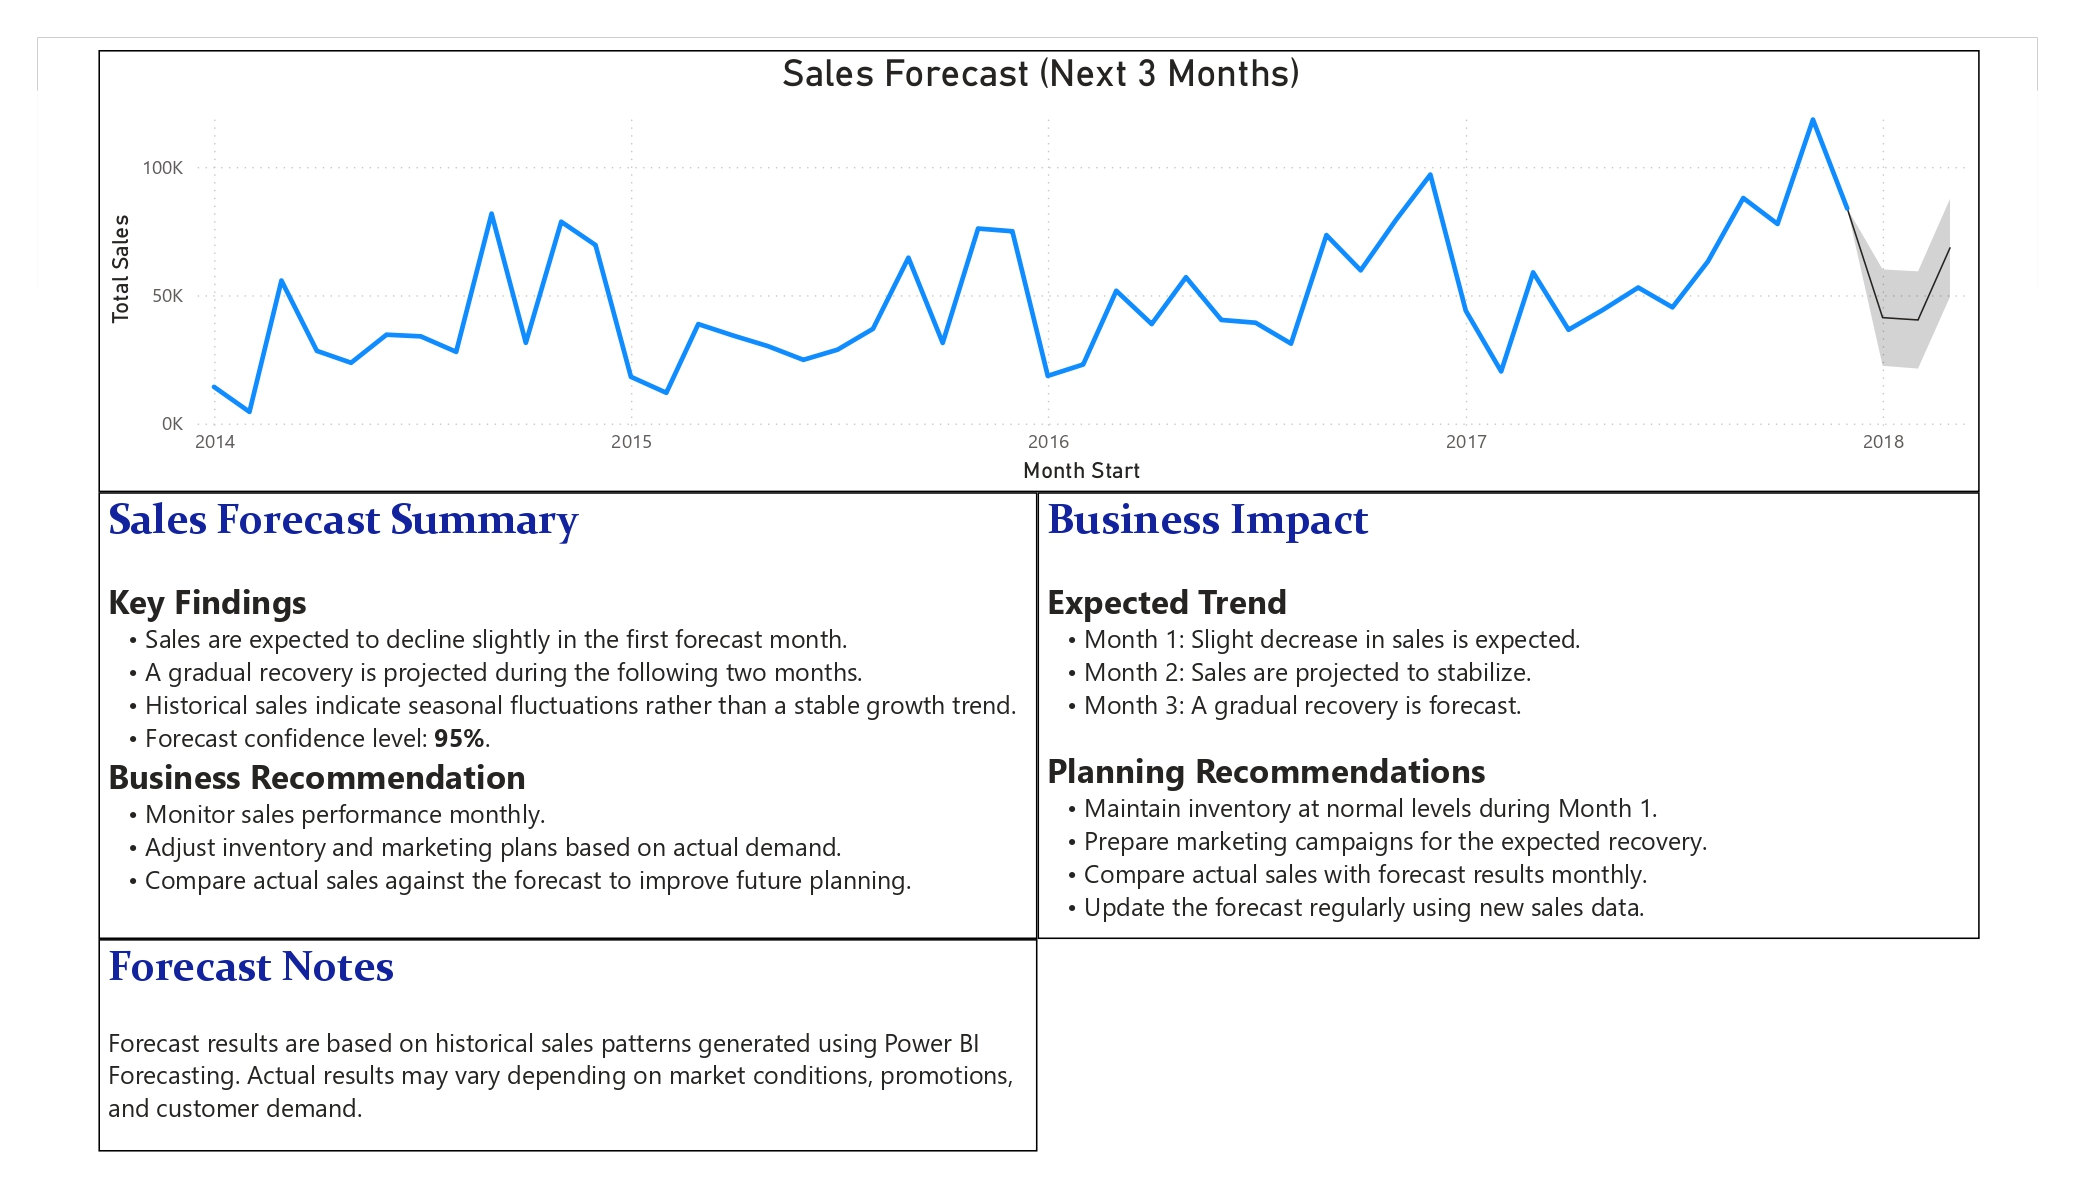

What the dashboard file says about the page in this screenshot:
{"tool":"powerbi","page":{"name":"Sales Forecast","canvas":[1280,720],"ordinal":2},"visuals":[{"type":"lineChart","title":" Sales Forecast (Next 3 Months)","fields":{"Category":["DimDate.Month Start"],"Y":["Measures (2).Total Sales"]},"box":[39,8,1204,283],"z":0},{"type":"textbox","title":"Sales Forecast Summary","box":[39,291,601,286],"z":1000},{"type":"textbox","title":"Business Impact","box":[640,291,603,286],"z":2000},{"type":"textbox","title":"Forecast Notes","box":[39,577,601,143],"z":2001}]}

Visuals, with their boxes in screenshot pixels (x1, y1, x2, y2):
" Sales Forecast (Next 3 Months)" lineChart: Rect(98, 50, 1955, 487)
"Sales Forecast Summary" textbox: Rect(98, 487, 1025, 928)
"Business Impact" textbox: Rect(1025, 487, 1955, 928)
"Forecast Notes" textbox: Rect(98, 928, 1025, 1148)
